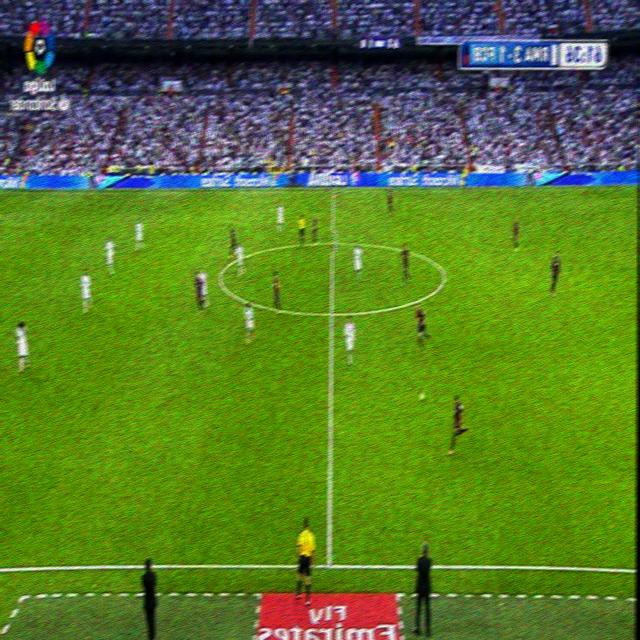halfcircle_bottom: (326, 301, 337, 324)
halfcircle_top: (326, 231, 337, 252)
midline_bottom_intersection: (321, 552, 336, 571)
midline_top_intersection: (330, 184, 337, 197)
